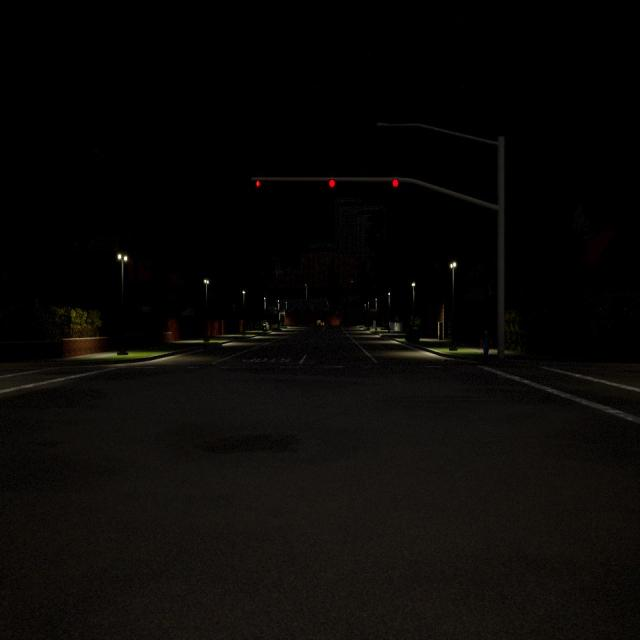Pedestrian: (483, 330, 489, 360)
traffic_light: (329, 179, 335, 188), (393, 178, 398, 187), (256, 180, 260, 187)
